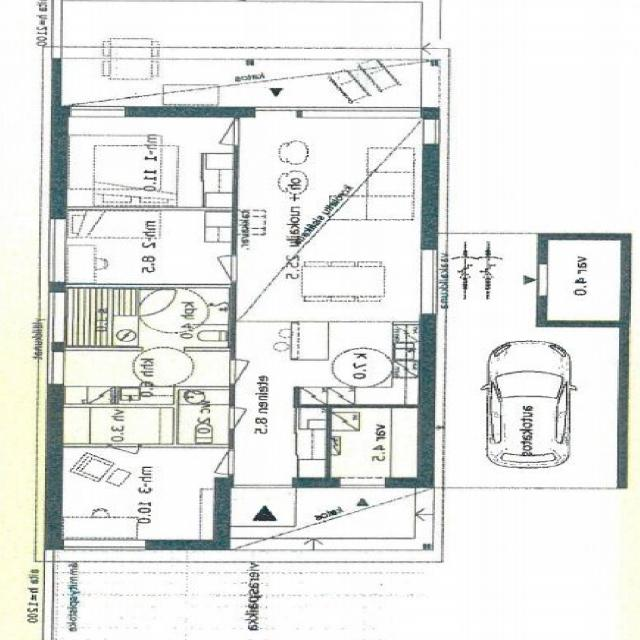door: (138, 289, 181, 316), (191, 120, 234, 145), (192, 450, 235, 474), (191, 256, 234, 280), (228, 360, 270, 384), (228, 408, 266, 430), (108, 444, 139, 469)
